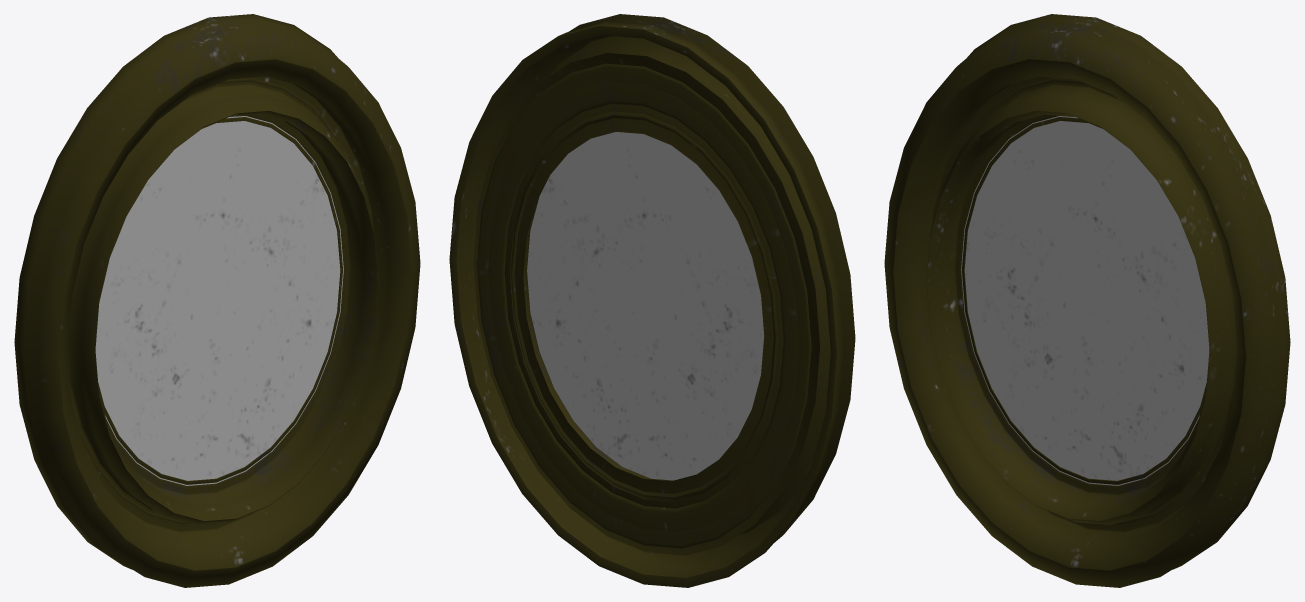
The model's file is 3DArt_Props_PictureFrame_Model_Amanda_04.fbx.
3 views of the same model, side by side, from view 1: azimuth 30°, elevation 25°; view 2: azimuth 150°, elevation 25°; view 3: azimuth 330°, elevation 25° (orthographic).
Visible parts, largest first — view 1: Cylinder001; view 2: Cylinder001; view 3: Cylinder001.
Boxes of the visible parts, x1,y1,x2,y2 form: Cylinder001: (14, 14, 420, 587); Cylinder001: (449, 14, 855, 587); Cylinder001: (884, 14, 1290, 587).
Bounding box in the file's own units: 63.42 × 86.77 × 8.11.
